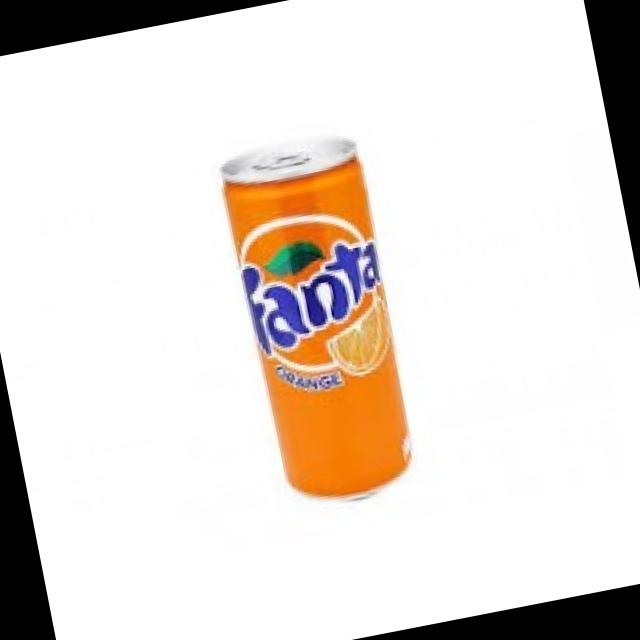fanta: (213, 130, 424, 514)
